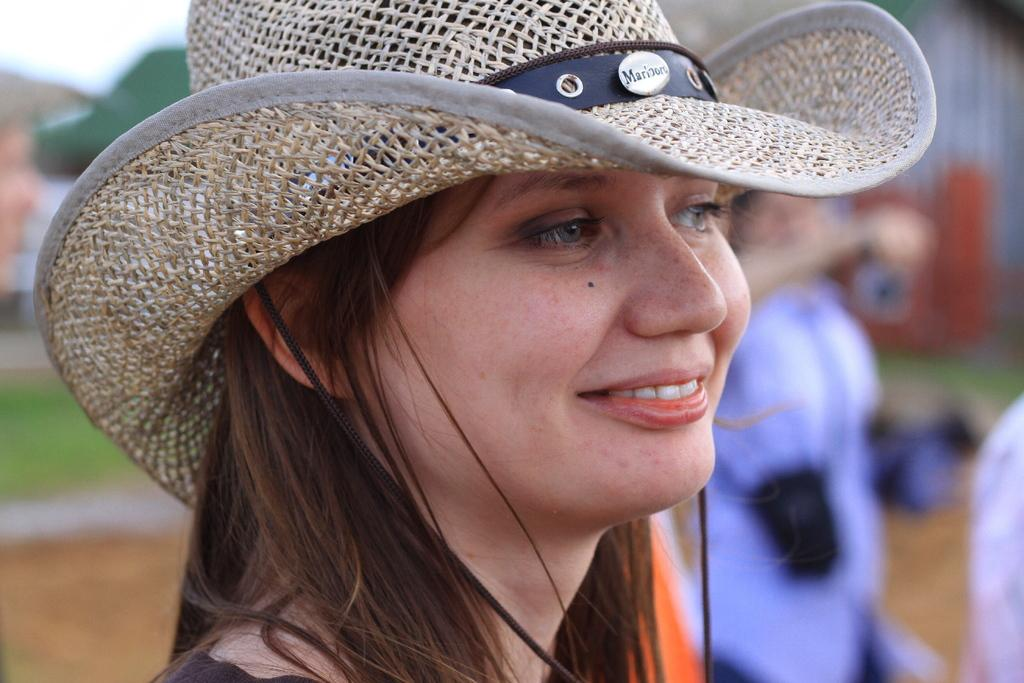Hat: (32, 0, 940, 508)
